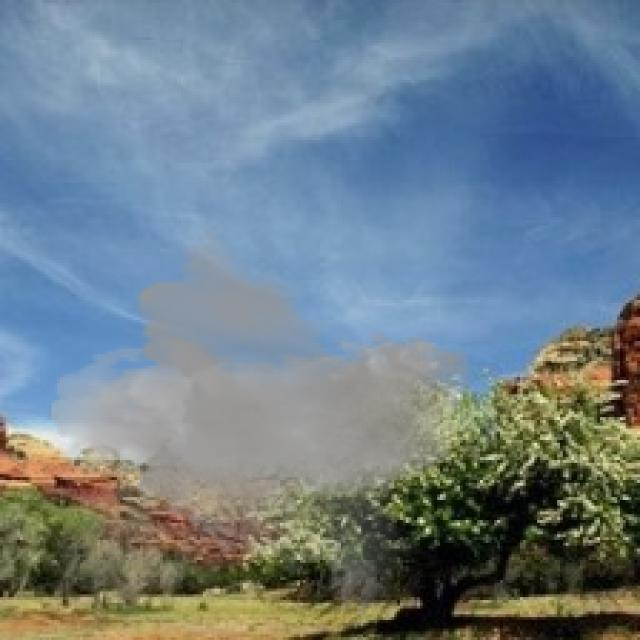smoke: (49, 231, 474, 620)
